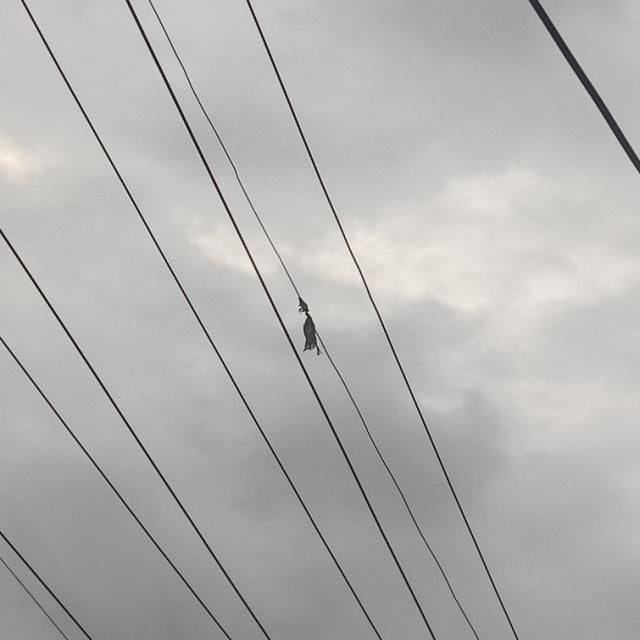植被遮挡: (290, 291, 326, 363)
